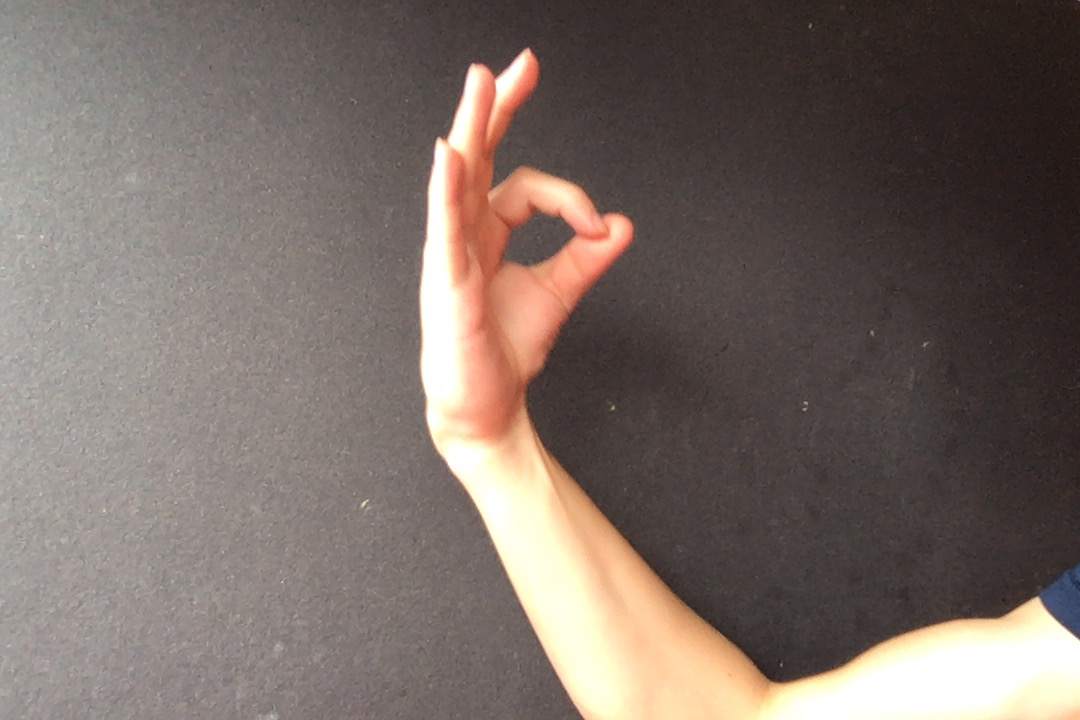oksign: (401, 41, 642, 449)
